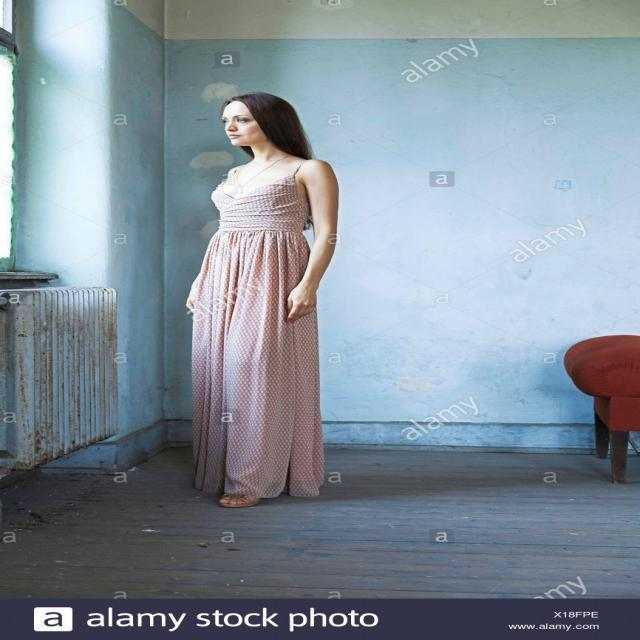walking: (162, 82, 385, 516)
